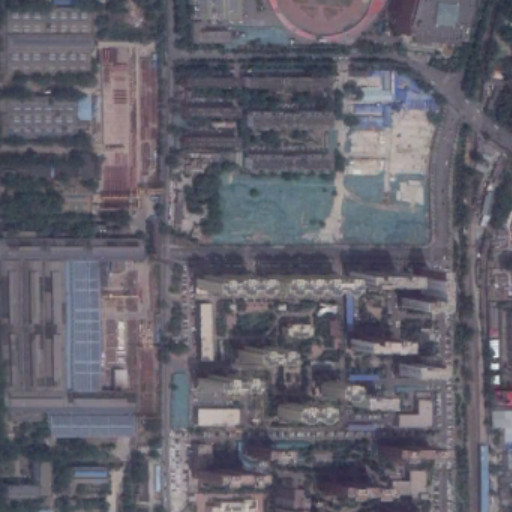cw: (208, 169, 431, 240), (171, 373, 188, 431)
